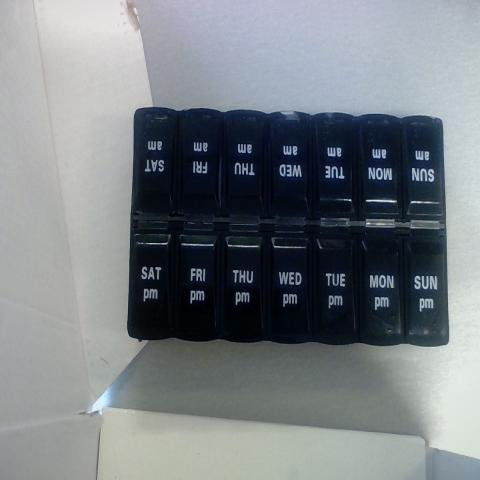FRI-am: (182, 116, 218, 210)
FRI-pm: (179, 226, 218, 334)
MON-am: (357, 114, 400, 218)
MON-pm: (361, 226, 402, 337)
SAT-am: (136, 117, 175, 214)
SAT-pm: (133, 225, 172, 335)
SUN-am: (408, 119, 443, 216)
SUN-pm: (407, 225, 445, 337)
THU-am: (217, 111, 258, 206)
THU-pm: (224, 227, 264, 335)
TUE-am: (313, 116, 353, 220)
TUE-pm: (314, 231, 358, 342)
WED-am: (269, 114, 310, 218)
WED-pm: (269, 228, 311, 341)
